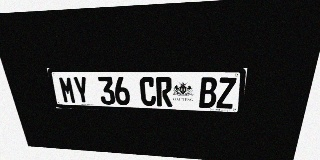3: (98, 76, 116, 105)
6: (113, 77, 131, 105)
B: (199, 77, 218, 108)
C: (139, 77, 156, 106)
M: (58, 76, 77, 104)
R: (156, 77, 172, 107)
Y: (72, 76, 91, 104)
Z: (216, 77, 237, 109)
